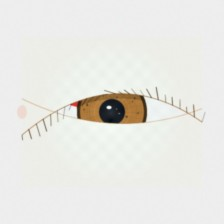hemorrhage_spot: (47, 58, 143, 135)
